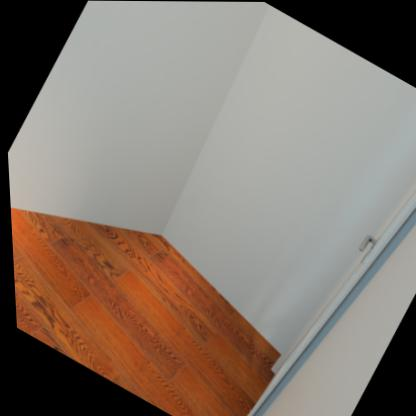Wooden floor: (8, 208, 276, 416)
